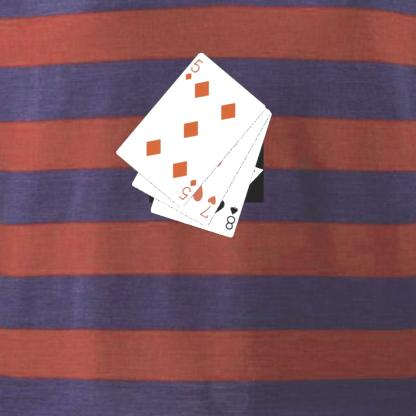5D: (182, 56, 205, 82), (176, 176, 198, 202)
7H: (197, 193, 217, 220)
8S: (223, 204, 239, 232)
